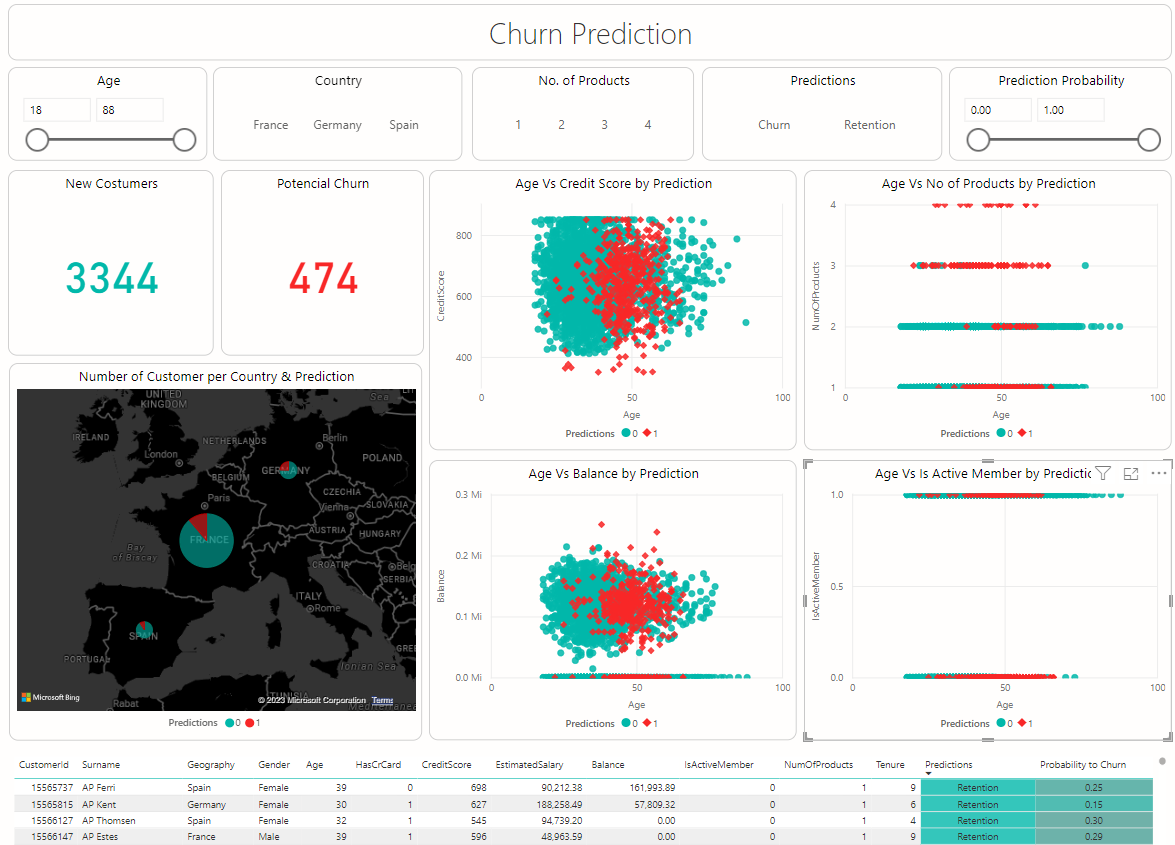

This screenshot's page, from the dashboard's own definition file:
{"tool":"powerbi","page":{"name":"Página 1","canvas":[1300,1500],"ordinal":0},"visuals":[{"type":"textbox","box":[13.4,8,1278.6,62.4],"z":0},{"type":"slicer","title":"Age","fields":{"Values":["churn_predict.Age"]},"box":[13.4,76.7,219.3,102.5],"z":1000},{"type":"slicer","title":"No. of Products","fields":{"Values":["churn_predict.NumOfProducts"]},"box":[523.4,76.7,244.3,102.5],"z":2000},{"type":"slicer","title":"Country","fields":{"Values":["churn_predict.Geography"]},"box":[239,76.7,273.7,102.5],"z":3000},{"type":"slicer","title":"Predictions","fields":{"Values":["churn_predict.Predictions - Churn or Not Desc"]},"box":[775.7,76.7,263.9,102.5],"z":4000},{"type":"slicer","title":"Prediction Probability","fields":{"Values":["churn_predict.Predictions - Probability to Churn"]},"box":[1046.8,76.7,245.2,102.5],"z":5000},{"type":"card","title":"New Costumers","fields":{"Values":["CountNonNull(churn_predict.CustomerId)"]},"box":[12.8,190.5,225.8,204.4],"z":6000},{"type":"card","title":"Potencial Churn","fields":{"Values":["CountNonNull(churn_predict.CustomerId)"]},"box":[247.2,190.5,222.6,204.4],"z":7000},{"type":"scatterChart","title":"Age Vs Credit Score by Prediction","fields":{"Category":["churn_predict.CustomerId"],"X":["Sum(churn_predict.Age)"],"Y":["Sum(churn_predict.CreditScore)"],"Series":["churn_predict.Predictions - Churn or Not"]},"box":[475.7,190.5,404.1,308.4],"z":8000},{"type":"scatterChart","title":"Age Vs No of Products by Prediction","fields":{"Category":["churn_predict.CustomerId"],"X":["Sum(churn_predict.Age)"],"Y":["Sum(churn_predict.NumOfProducts)"],"Series":["churn_predict.Predictions - Churn or Not"]},"box":[887.8,190.5,404.1,308.4],"z":9000},{"type":"scatterChart","title":"Age Vs Balance by Prediction","fields":{"X":["Sum(churn_predict.Age)"],"Category":["churn_predict.CustomerId"],"Y":["Sum(churn_predict.Balance)"],"Series":["churn_predict.Predictions - Churn or Not"]},"box":[475.7,508.9,404.1,308.4],"z":10000},{"type":"scatterChart","title":"Age Vs Is Active Member by Prediction","fields":{"Category":["churn_predict.CustomerId"],"X":["Sum(churn_predict.Age)"],"Y":["Sum(churn_predict.IsActiveMember)"],"Series":["churn_predict.Predictions - Churn or Not"]},"box":[887.8,508.9,404.1,308.4],"z":11000},{"type":"map","title":"Number of Customer per Country & Prediction","fields":{"Category":["churn_predict.Geography"],"Size":["CountNonNull(churn_predict.CustomerId)"],"Series":["churn_predict.Predictions - Churn or Not"]},"box":[14.1,402.1,454.5,415.2],"z":12000},{"type":"tableEx","fields":{"Values":["churn_predict.CustomerId","churn_predict.Surname","churn_predict.Geography","churn_predict.Gender","Sum(churn_predict.Age)","Sum(churn_predict.HasCrCard)","Sum(churn_predict.CreditScore)","Sum(churn_predict.EstimatedSalary)","Sum(churn_predict.Balance)","Sum(churn_predict.IsActiveMember)","Sum(churn_predict.NumOfProducts)","Sum(churn_predict.Tenure)"]},"box":[14,830.1,1277.4,248.4],"z":13001}]}

Visuals, with their boxes on the page's 1300x1500 design canvas (x1, y1, x2, y2). These are canvas units, not pixel positions in the 1175x845 screenshot, which may show the page scaled, cropped or inside an application window:
textbox: <box>13,8,1292,70</box>
"Age" slicer: <box>13,77,233,179</box>
"No. of Products" slicer: <box>523,77,768,179</box>
"Country" slicer: <box>239,77,513,179</box>
"Predictions" slicer: <box>776,77,1040,179</box>
"Prediction Probability" slicer: <box>1047,77,1292,179</box>
"New Costumers" card: <box>13,190,239,395</box>
"Potencial Churn" card: <box>247,190,470,395</box>
"Age Vs Credit Score by Prediction" scatterChart: <box>476,190,880,499</box>
"Age Vs No of Products by Prediction" scatterChart: <box>888,190,1292,499</box>
"Age Vs Balance by Prediction" scatterChart: <box>476,509,880,817</box>
"Age Vs Is Active Member by Prediction" scatterChart: <box>888,509,1292,817</box>
"Number of Customer per Country & Prediction" map: <box>14,402,469,817</box>
tableEx - churn_predict.CustomerId x churn_predict.Surname: <box>14,830,1291,1078</box>
